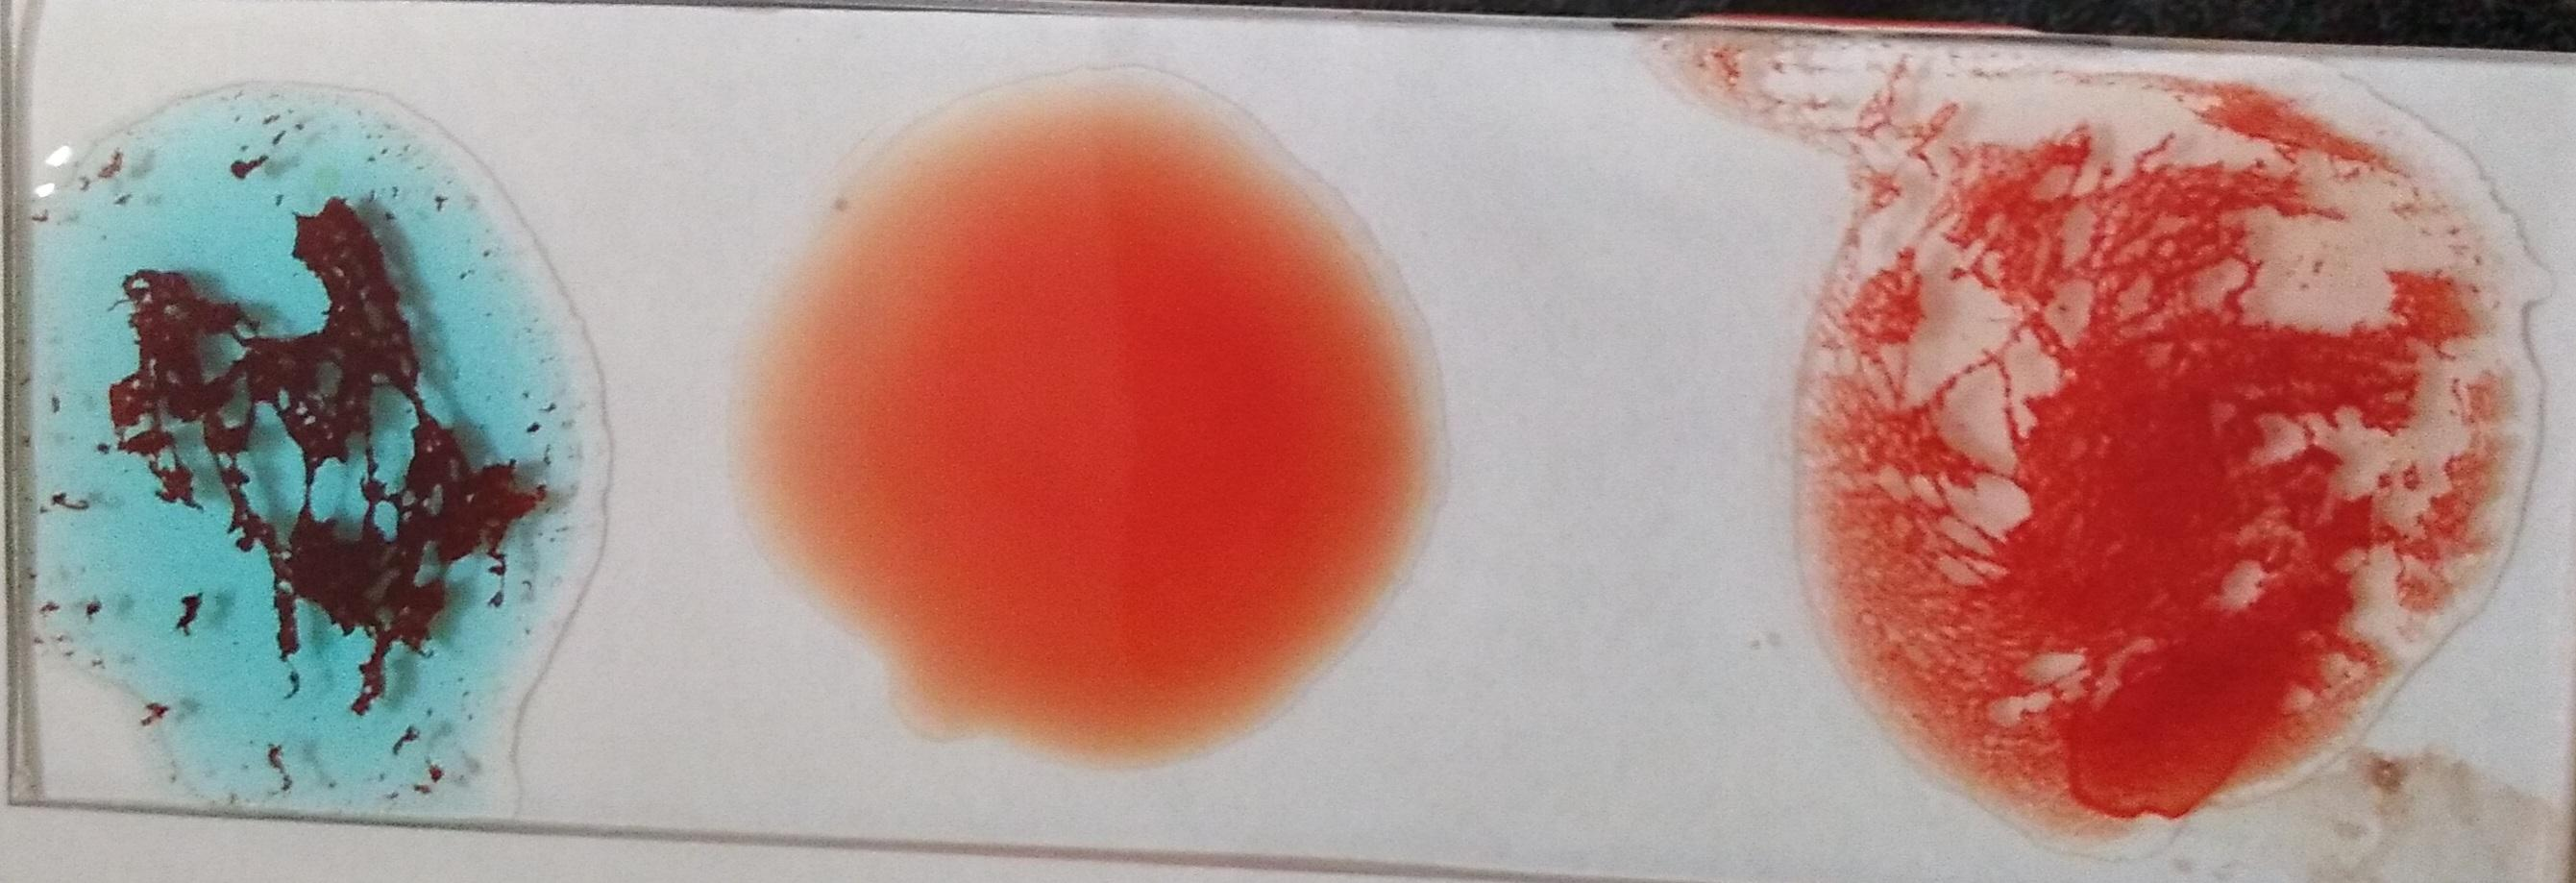A: (26, 113, 590, 821)
D: (1822, 99, 2558, 837)
